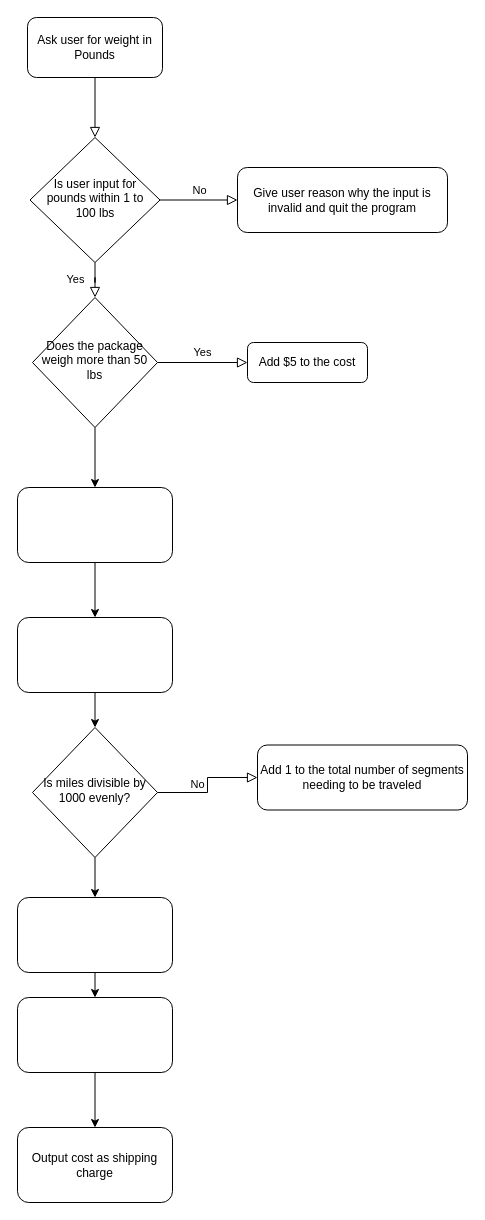
Some shapes in this 485 by 1220 pixel diagram are drawn without their labels. Each missing label, with the box of its shape:
Add $5 to cost to the previous value of cost: (16, 486, 172, 562)
Add miles divided by 1000 to the previous value of segments: (16, 896, 172, 972)
Ask user for distance in miles: (16, 616, 172, 692)
Calculate Cost By Multiplying Cost by segments: (16, 996, 172, 1072)
